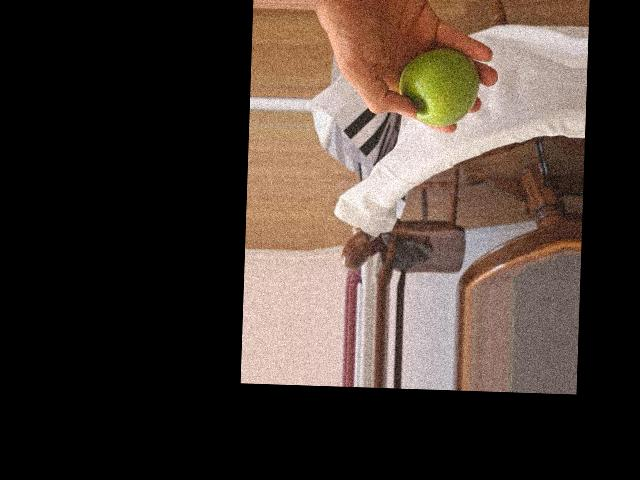apple: (404, 43, 479, 129)
